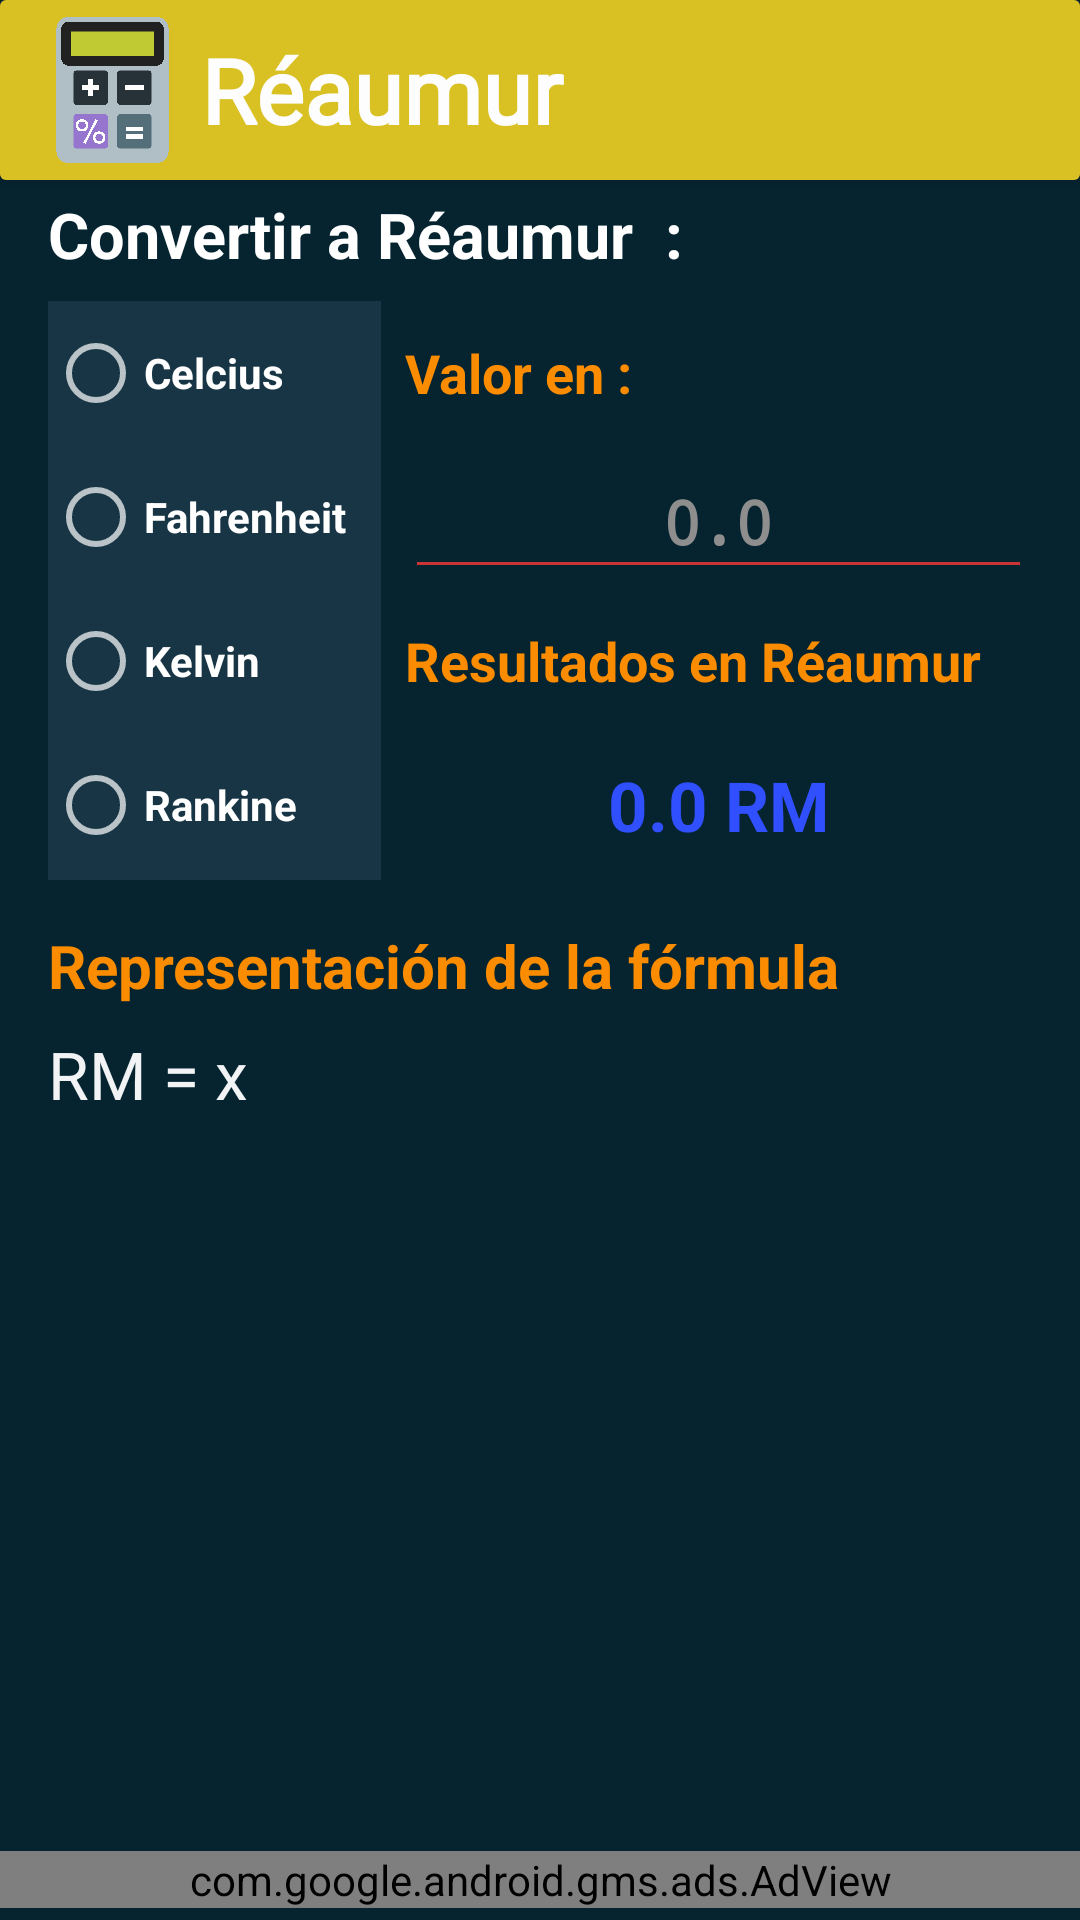

Icons on this 1080 × 1920 Android screen, each with its box as (x1, y1, x2, y2):
calc: (56, 17, 169, 163)
